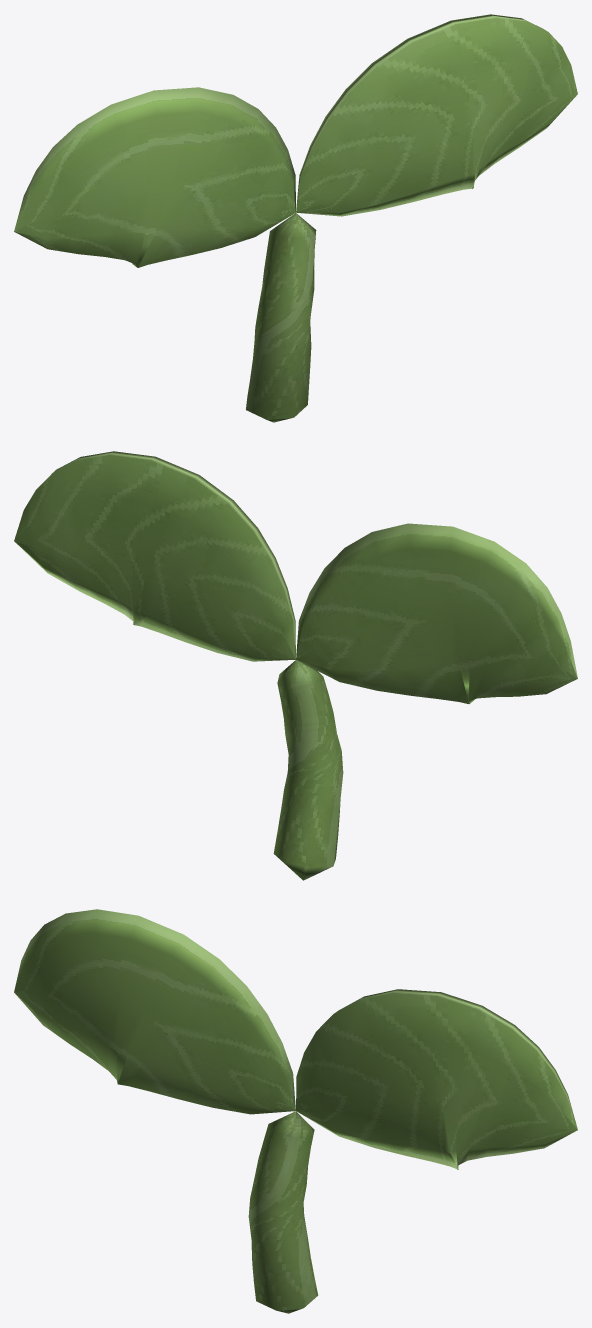
Rendered from sprout.glb.
3 views of the same model, one above another, from view 1: azimuth 30°, elevation 25°; view 2: azimuth 150°, elevation 25°; view 3: azimuth 330°, elevation 25° (orthographic).
Parts seen in each view (by area): view 1: sprout_leafl, sprout_leafr, sprout_stem; view 2: sprout_leafl, sprout_leafr, sprout_stem; view 3: sprout_leafl, sprout_leafr, sprout_stem.
Boxes of the visible parts, x1,y1,x2,y2 form: sprout_leafl: (14, 87, 295, 267); sprout_leafr: (296, 14, 577, 216); sprout_stem: (246, 213, 316, 422); sprout_leafl: (296, 523, 577, 703); sprout_leafr: (14, 451, 295, 661); sprout_stem: (273, 660, 343, 880); sprout_leafl: (14, 909, 295, 1114); sprout_leafr: (296, 989, 577, 1169); sprout_stem: (248, 1111, 318, 1313).
Size of the model in its own units: 9.03 by 5.75 by 0.9761.
1 material, 1 textured.
